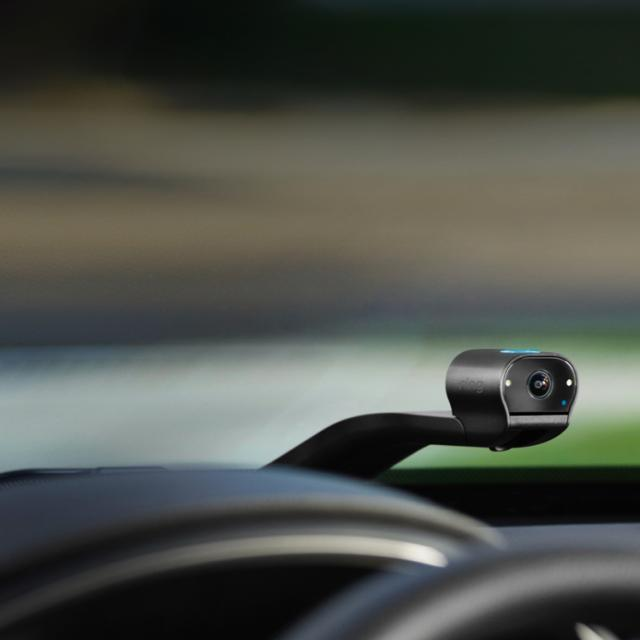hidden camera: (523, 366, 558, 403)
